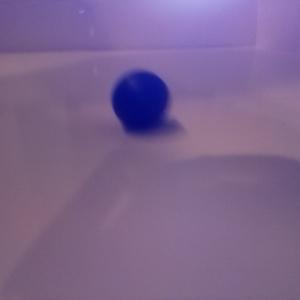dead_ball: (111, 69, 171, 128)
